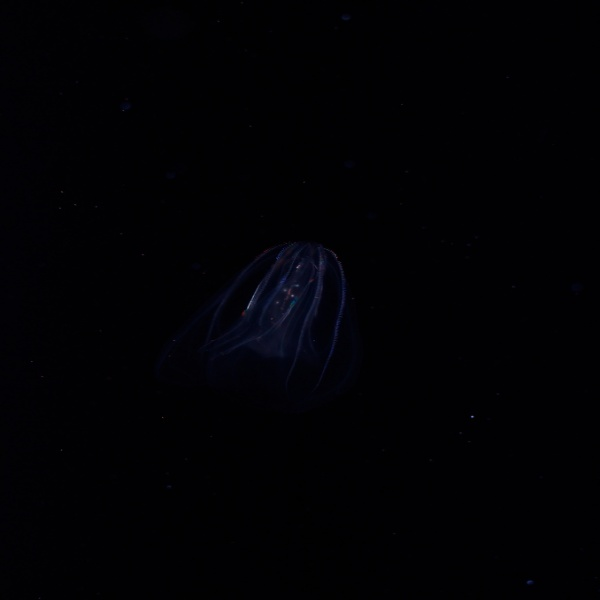Jellyfish: (204, 239, 346, 389)
